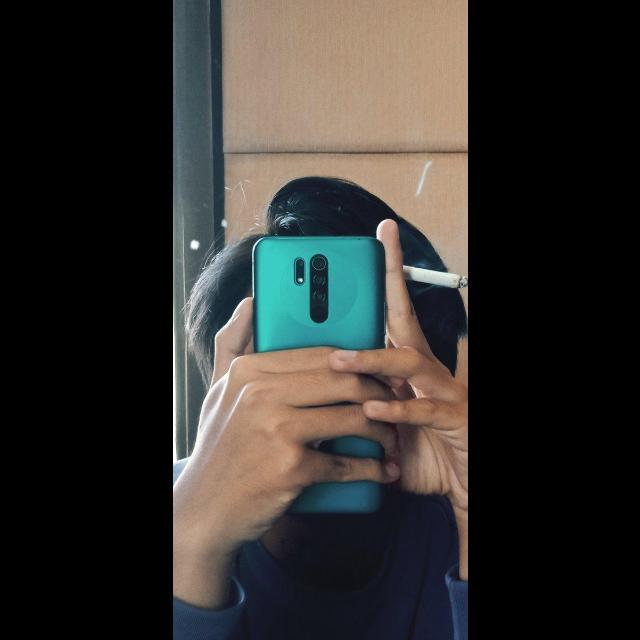rokok: (401, 254, 467, 296)
